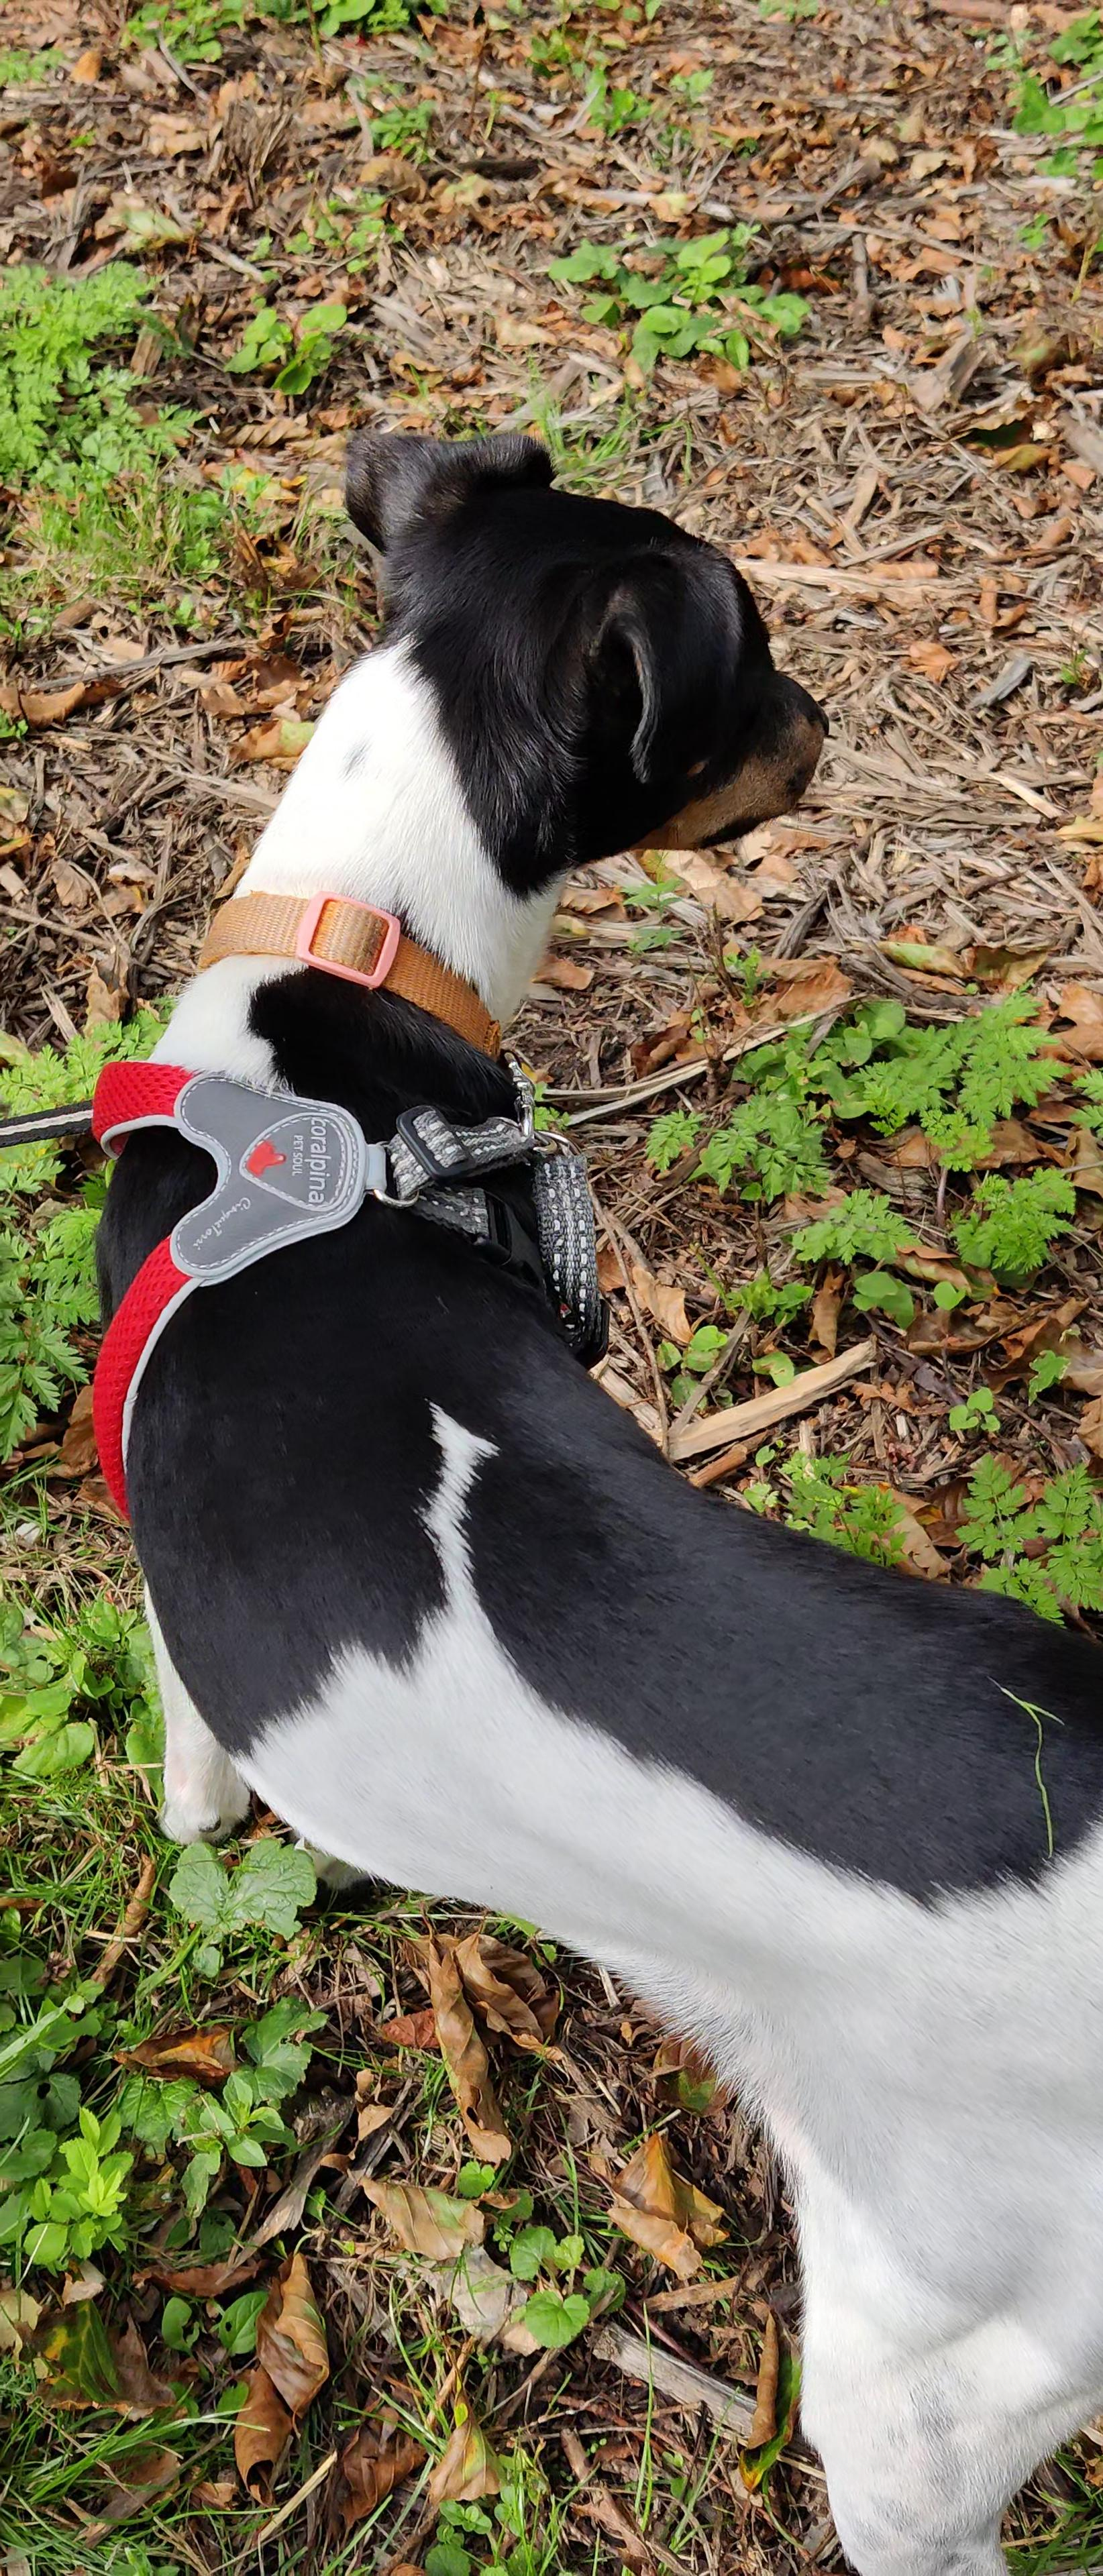Dog: (66, 425, 1103, 2576)
